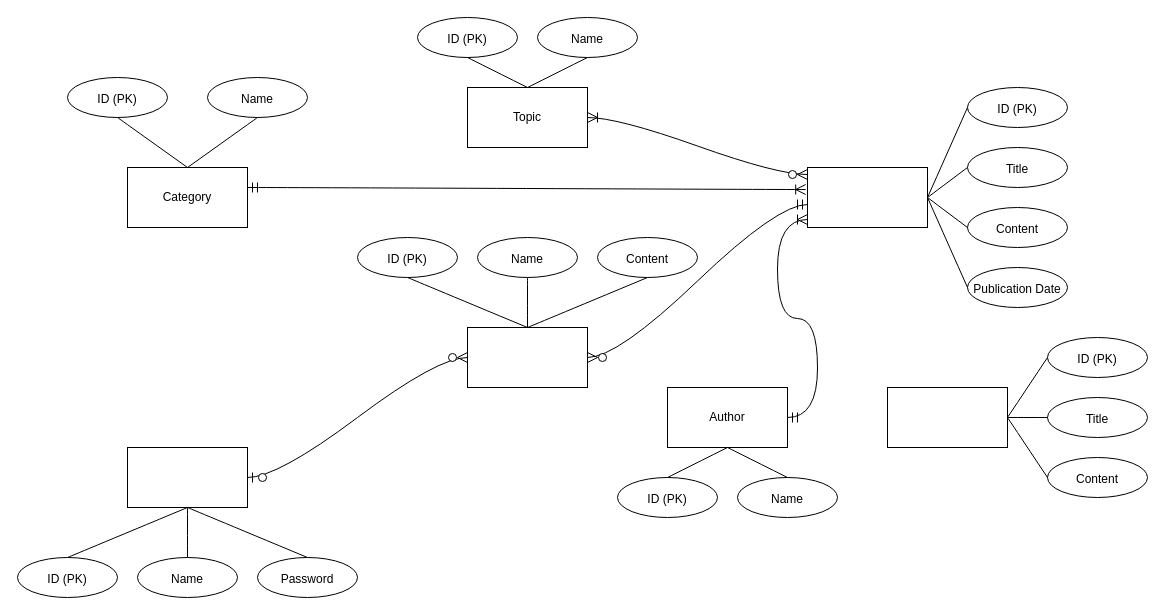
Some shapes in this 1165 by 615 pixel diagram are drawn without their labels. Here are the shapes that lost their labels. From the top down, the centre of each, then its label:
At (867,197): "Post".
At (527,357): "Comment".
At (947,417): "Adv".
At (187,477): "User".
